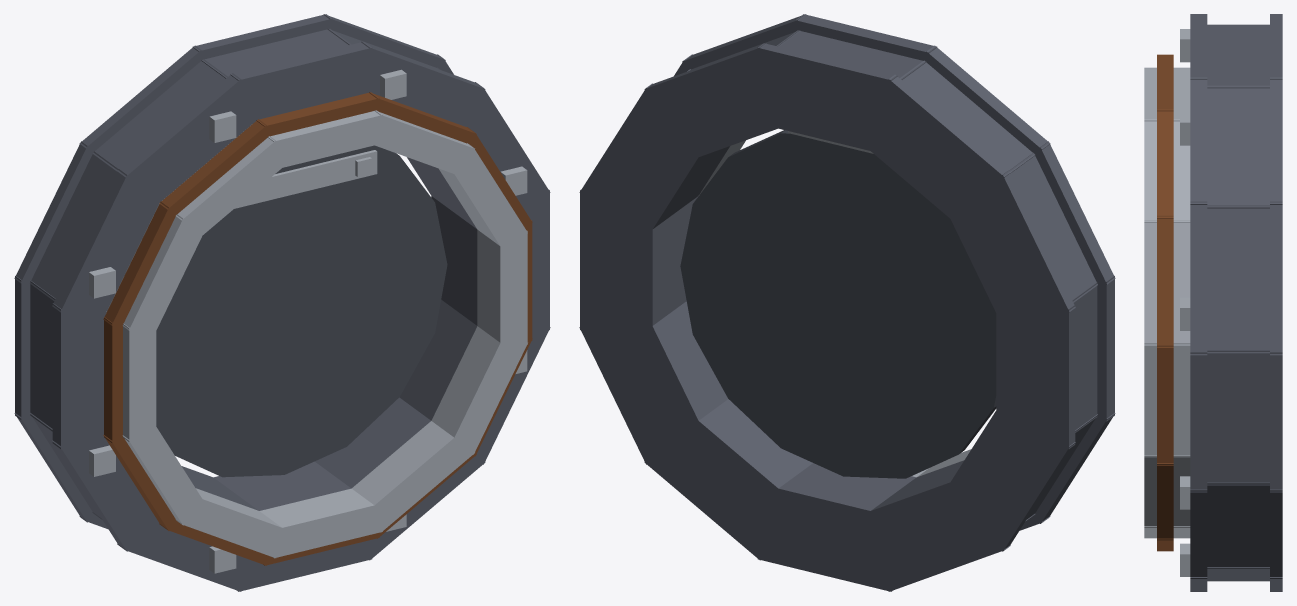
Rendered from CatCafe_CatFlap_PipeRing.fbx.
The picture shows the model from 3 angles, left to right: view 1: azimuth 30°, elevation 25°; view 2: azimuth 150°, elevation 25°; view 3: azimuth 270°, elevation 25°; orthographic projection.
Parts seen in each view (by area): view 1: CatCafe_CatFlap_PipeRing, CatCafe_CatFlap_PipeRing_Flap; view 2: CatCafe_CatFlap_PipeRing, CatCafe_CatFlap_PipeRing_Flap; view 3: CatCafe_CatFlap_PipeRing.
Part boxes in pixels (x1,y1,x2,y2): CatCafe_CatFlap_PipeRing: (14,14,550,591); CatCafe_CatFlap_PipeRing_Flap: (156,145,447,477); CatCafe_CatFlap_PipeRing: (579,14,1115,591); CatCafe_CatFlap_PipeRing_Flap: (680,130,996,478); CatCafe_CatFlap_PipeRing: (1144,14,1282,591).
Size of the model in its own units: 2.71 by 2.71 by 0.66.
1 material, 1 textured.
